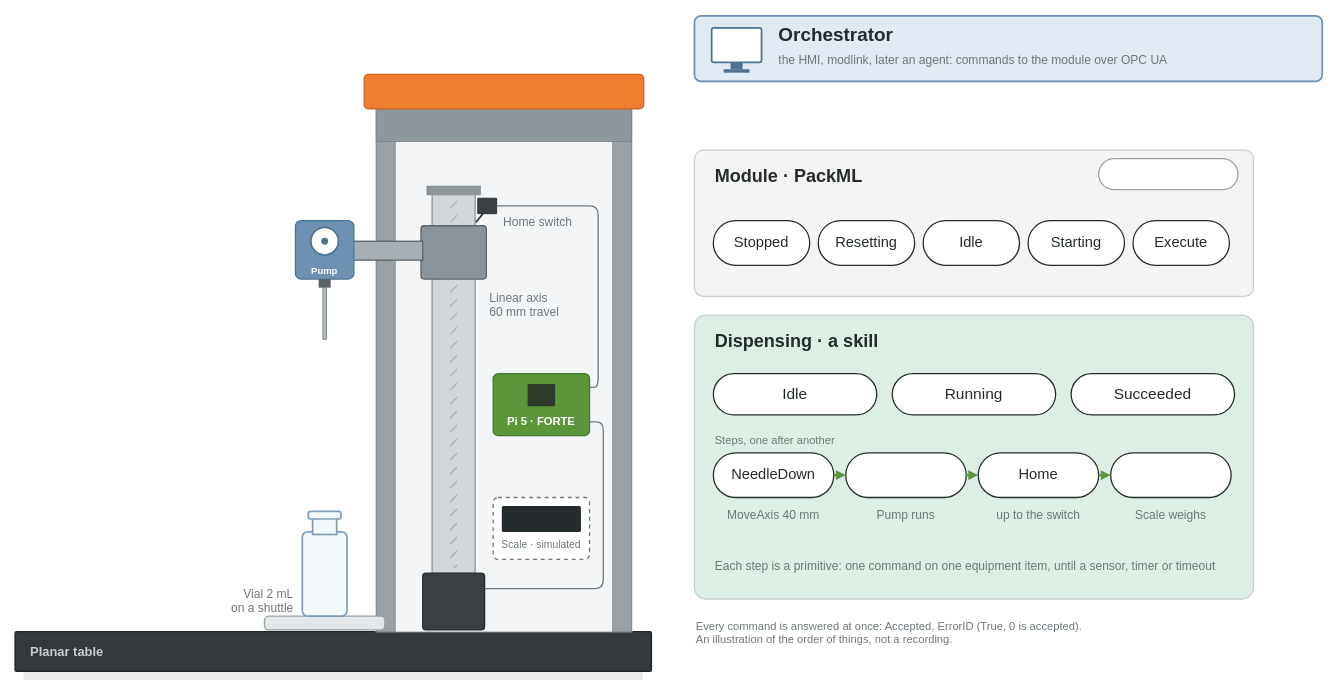
Some shapes in this 1338 by 694 pixel diagram are drawn without their labels. The box of each missing label's shape, as (x1, y1, x2, y2) in pixels:
0.0 g: (501, 506, 580, 531)
Dispense: (845, 452, 966, 498)
Filling module: (363, 73, 644, 109)
free: (1098, 158, 1238, 190)
Stepper Nema 23: (422, 572, 485, 630)
Weigh: (1110, 452, 1231, 498)
